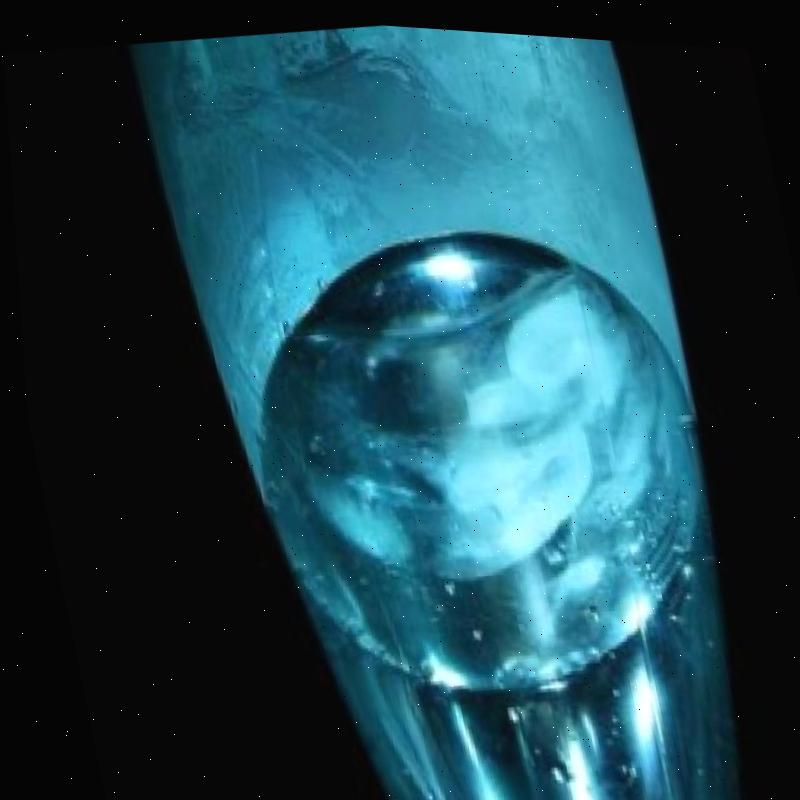botella: (132, 7, 769, 800)
